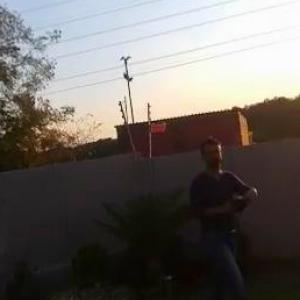follow: (183, 132, 264, 299)
